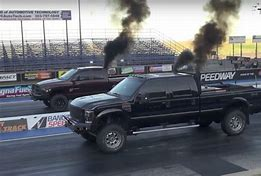smoke: (171, 1, 240, 67), (101, 1, 150, 64)
